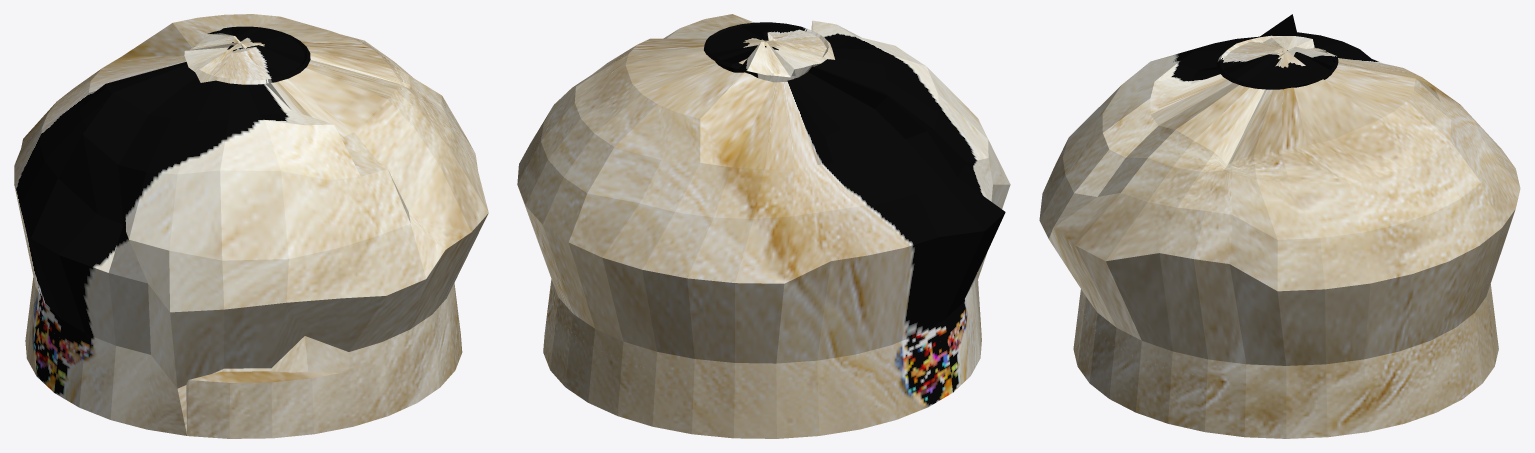
File: deeg.gltf
3 renders of one model, left to right at view 1: azimuth 30°, elevation 25°; view 2: azimuth 150°, elevation 25°; view 3: azimuth 270°, elevation 25°, orthographic. The views are drawn at different scales.
Parts seen in each view (by area): view 1: Sphere; view 2: Sphere; view 3: Sphere.
Boxes of the visible parts, x1,y1,x2,y2 form: Sphere: [14, 14, 488, 438]; Sphere: [517, 14, 1010, 438]; Sphere: [1039, 14, 1520, 438].
Bounding box in the file's own units: 0.7126 × 0.4848 × 0.7055.
Materials: 1 (1 with a texture image).
